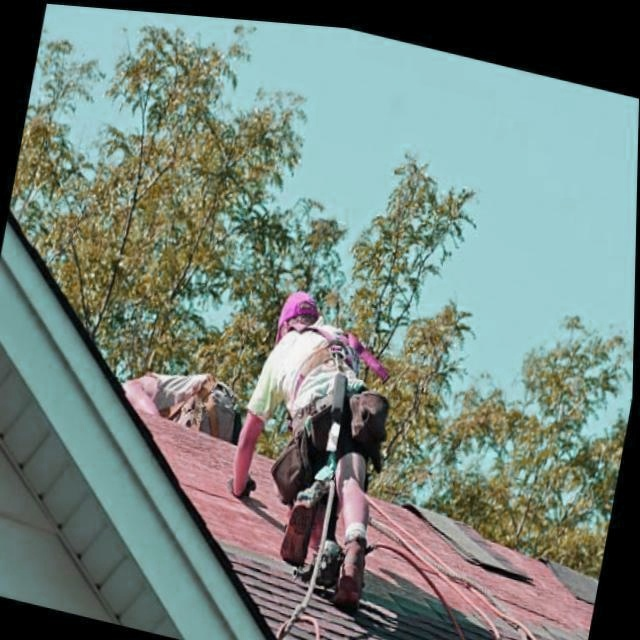safety belt: (281, 317, 382, 460)
